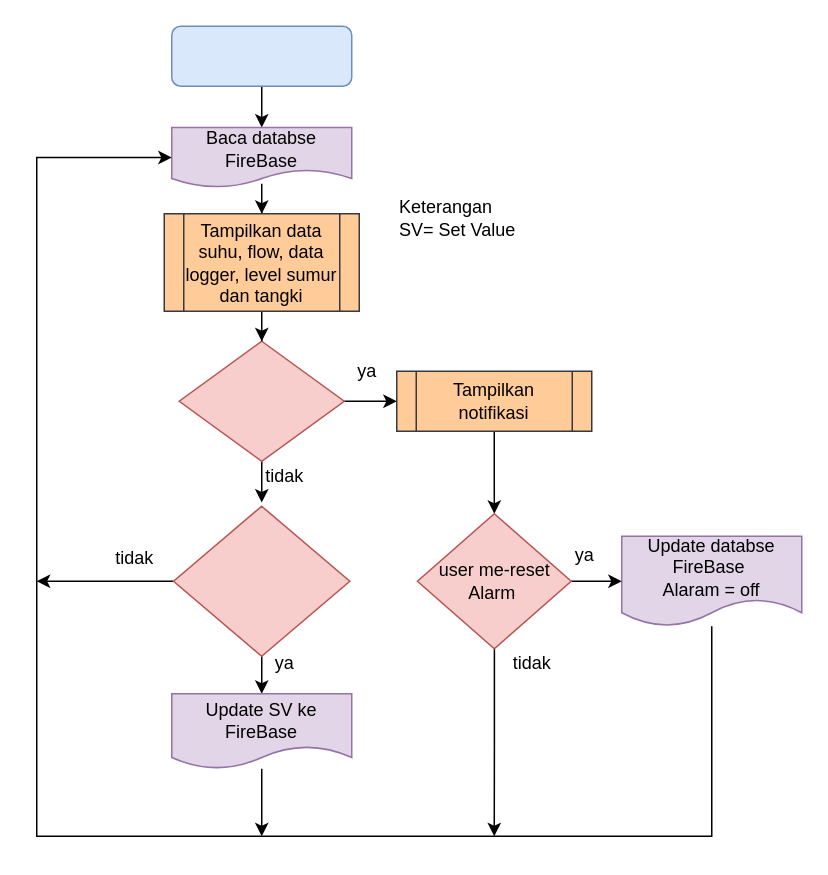
Some shapes in this 828 by 875 pixel diagram are drawn without their labels. The box of each missing label's shape, as (x1, y1, x2, y2) in pixels:
ada notifikasi alarm: (178, 340, 344, 461)
mulai: (170, 25, 352, 86)
User melakukan setting SV: (172, 505, 350, 656)
